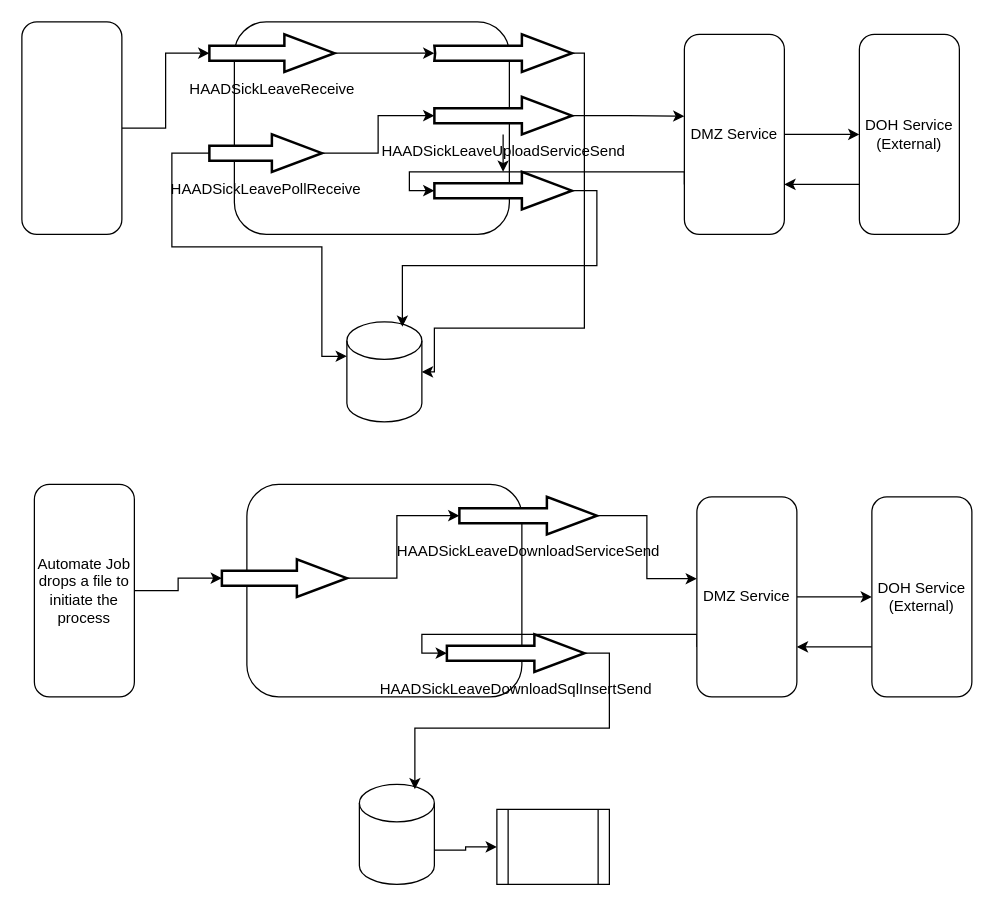
This 994x906 diagram has some shape labels left out. The shapes that lost their labels are listed below. From the top down, each one's centre as x and y in pixels, then its label:
(x=502, y=52): HAADSickLeaveSQLInsertSend
(x=71, y=127): Automate Job download extract from Epic FTP
(x=502, y=190): HAADSickLeaveUploadSqlUpdateSend
(x=284, y=578): HAADSickLeaveReportReceive
(x=552, y=846): SQL Job send report data
